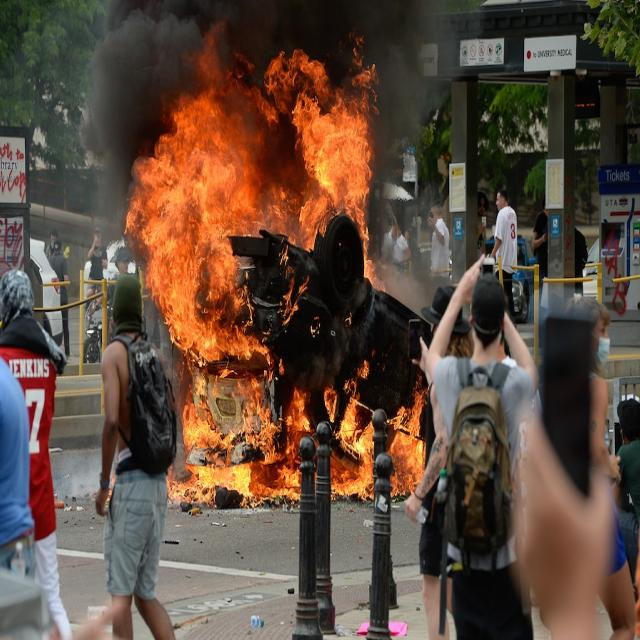fire: (227, 195, 375, 379), (125, 154, 229, 358), (272, 380, 428, 503), (264, 38, 378, 202), (158, 22, 264, 198), (166, 358, 270, 510)
